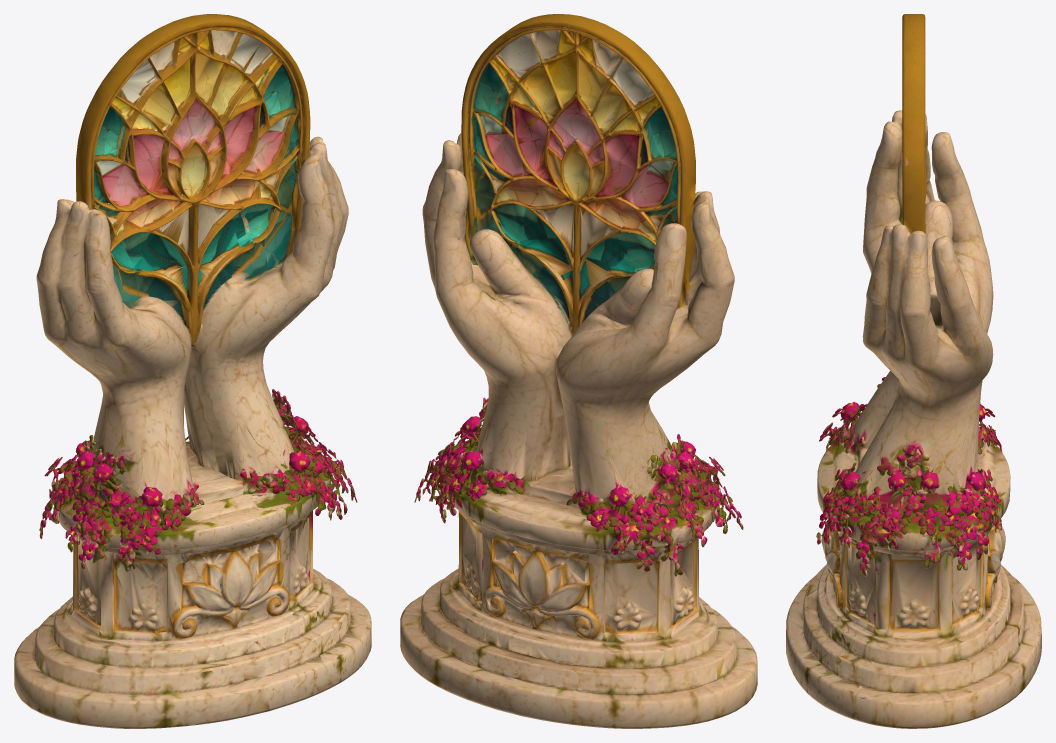
The model's file is esc-manos.glb.
3 views of the same model, side by side, from view 1: azimuth 30°, elevation 25°; view 2: azimuth 150°, elevation 25°; view 3: azimuth 270°, elevation 25° (orthographic). The views are drawn at different scales.
Visible parts, largest first — view 1: Mesh_0; view 2: Mesh_0; view 3: Mesh_0.
Boxes of the visible parts, x1,y1,x2,y2 form: Mesh_0: [14, 14, 371, 728]; Mesh_0: [400, 14, 757, 728]; Mesh_0: [786, 14, 1041, 728].
Bounding box in the file's own units: 1.02 × 1.9 × 0.704.
Materials: 1 (1 with a texture image).
